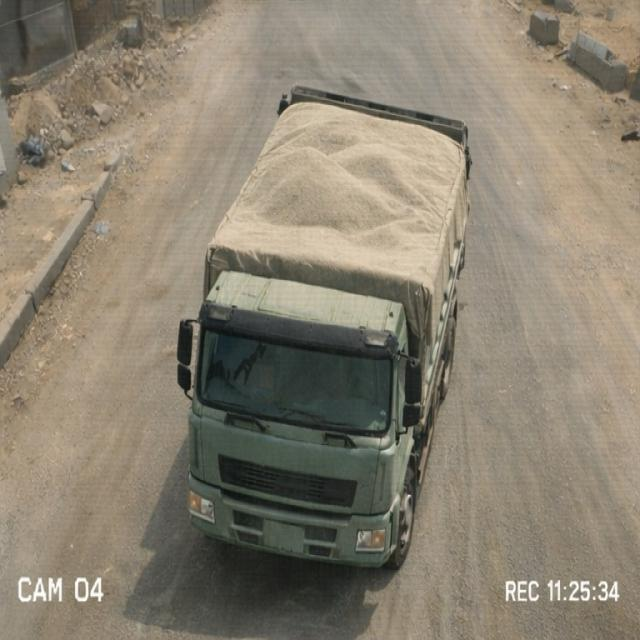trailer: (207, 84, 478, 287)
truck: (172, 67, 496, 569)
